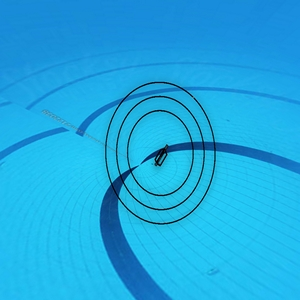circle: (103, 78, 218, 226)
submarine: (155, 144, 169, 166)
